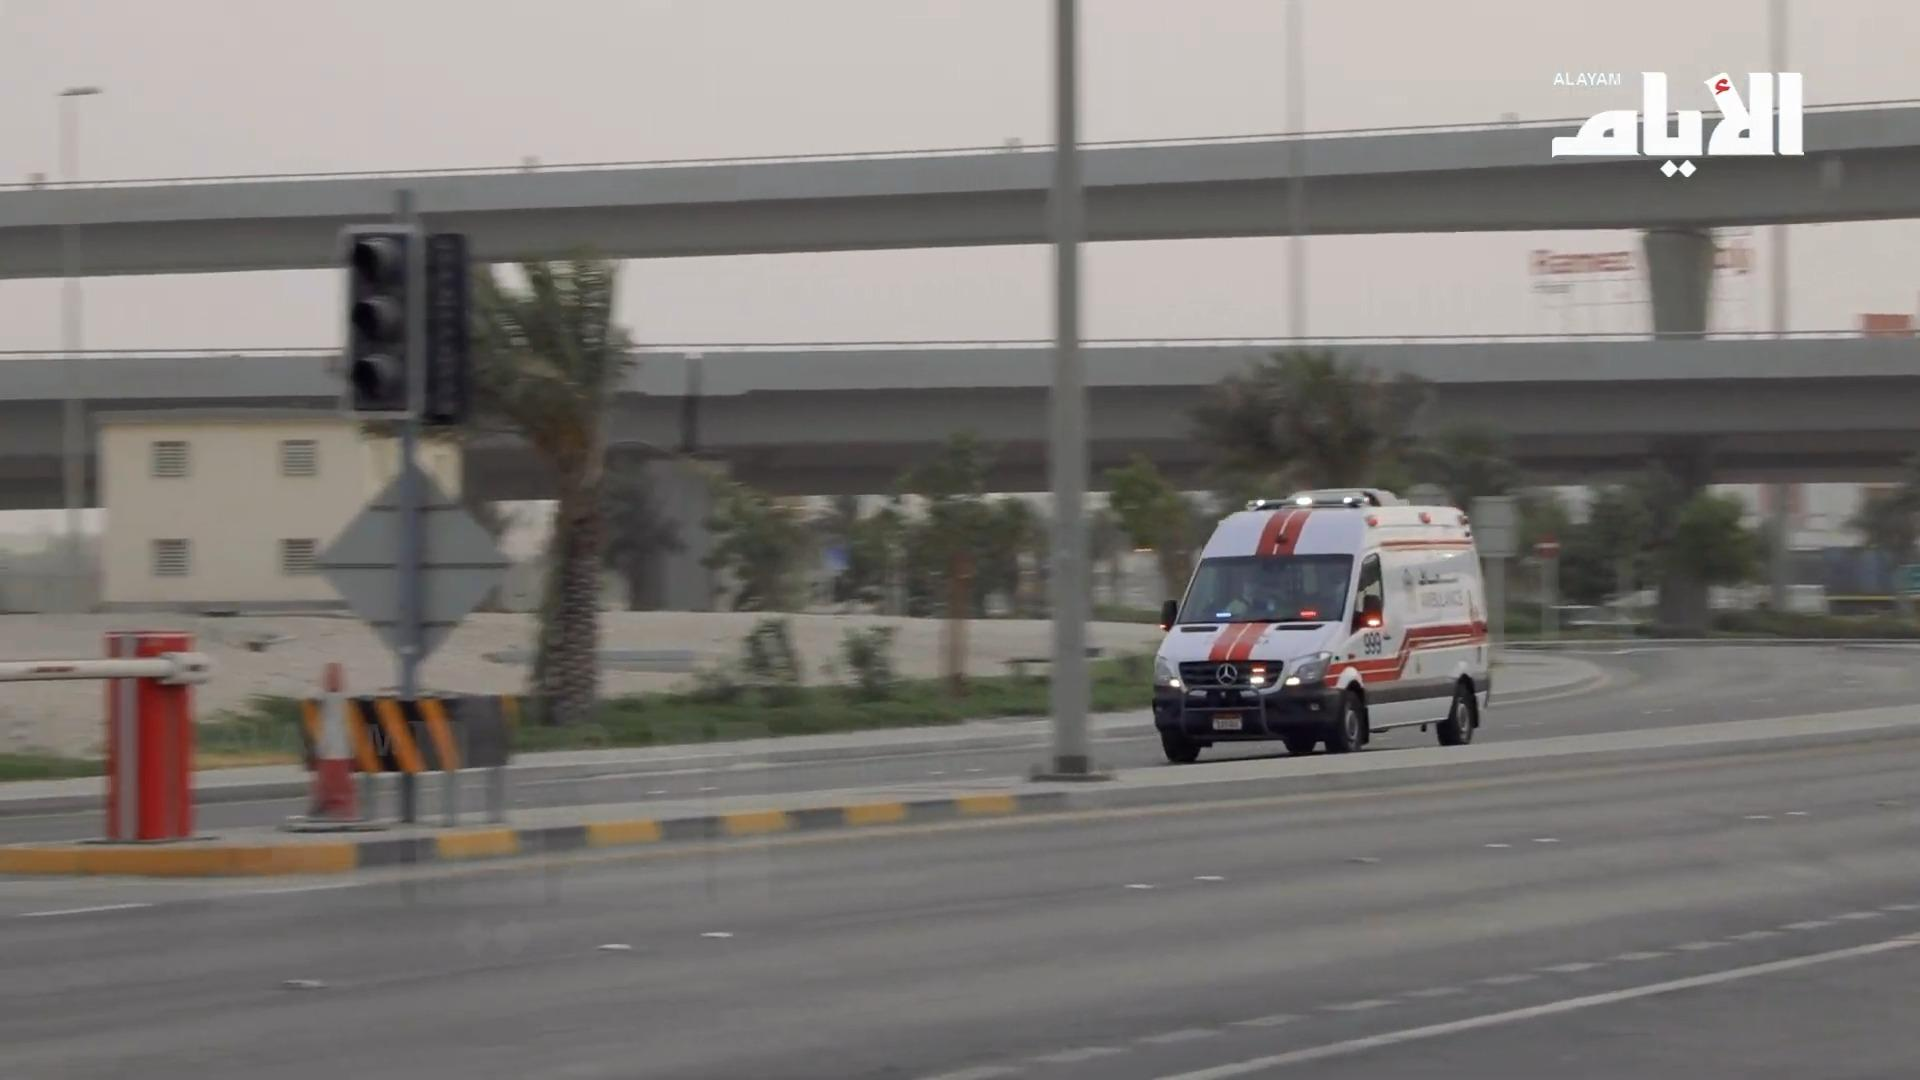ambulance_on: (1153, 488, 1489, 764)
